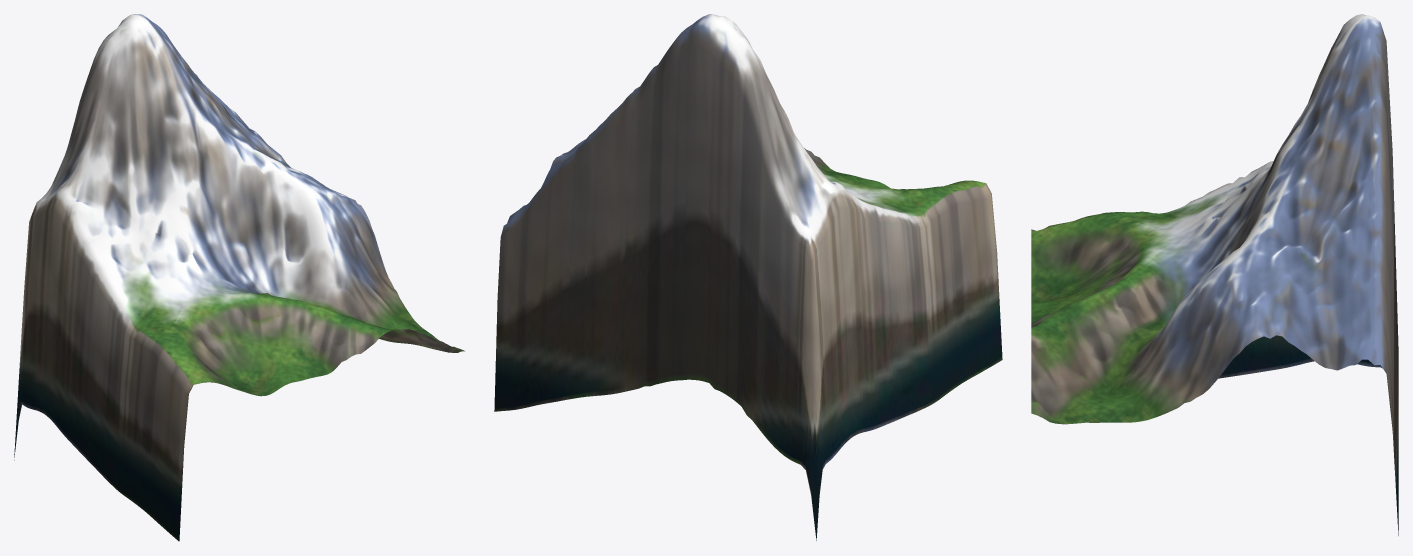
3 views of the same model, side by side, from view 1: azimuth 30°, elevation 25°; view 2: azimuth 150°, elevation 25°; view 3: azimuth 270°, elevation 25° (orthographic). The views are drawn at different scales.
Parts seen in each view (by area): view 1: t000_192; view 2: t000_192; view 3: t000_192.
Boxes of the visible parts, x1=… form: t000_192: x1=14, y1=14, x2=464, y2=541; t000_192: x1=494, y1=14, x2=1002, y2=540; t000_192: x1=1031, y1=14, x2=1398, y2=535.
Bounding box in the file's own units: 64 × 92.08 × 64.
Materials: 1 (1 with a texture image).
